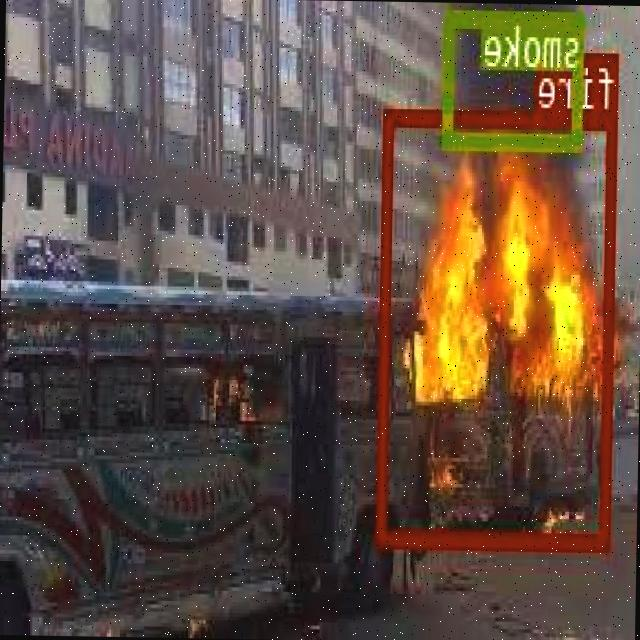fire: (378, 107, 618, 548)
smoke: (445, 6, 586, 146)
